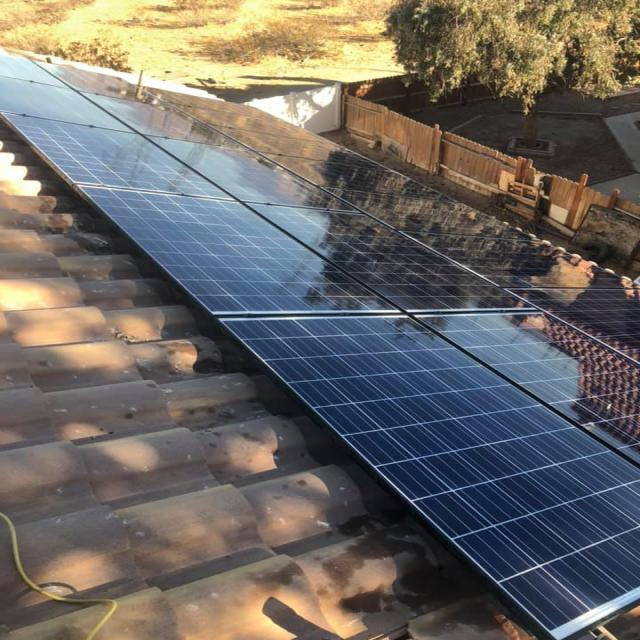clean-solar-panel: (2, 56, 638, 640)
